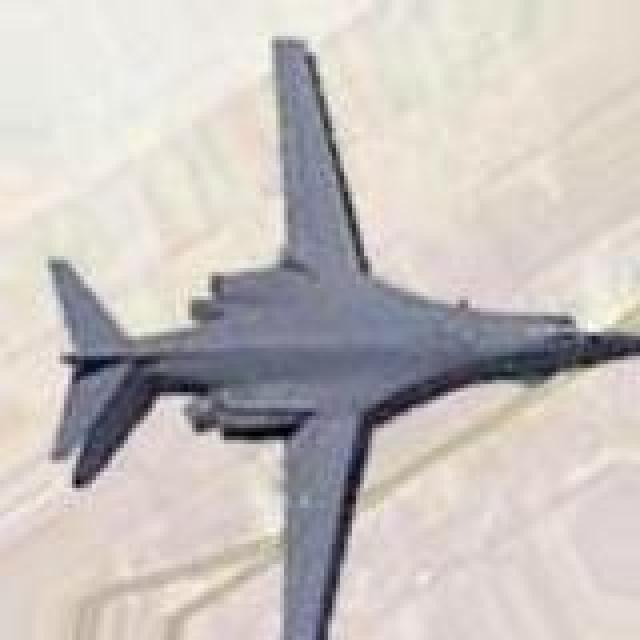B-1_TopDown: (36, 28, 636, 636)
